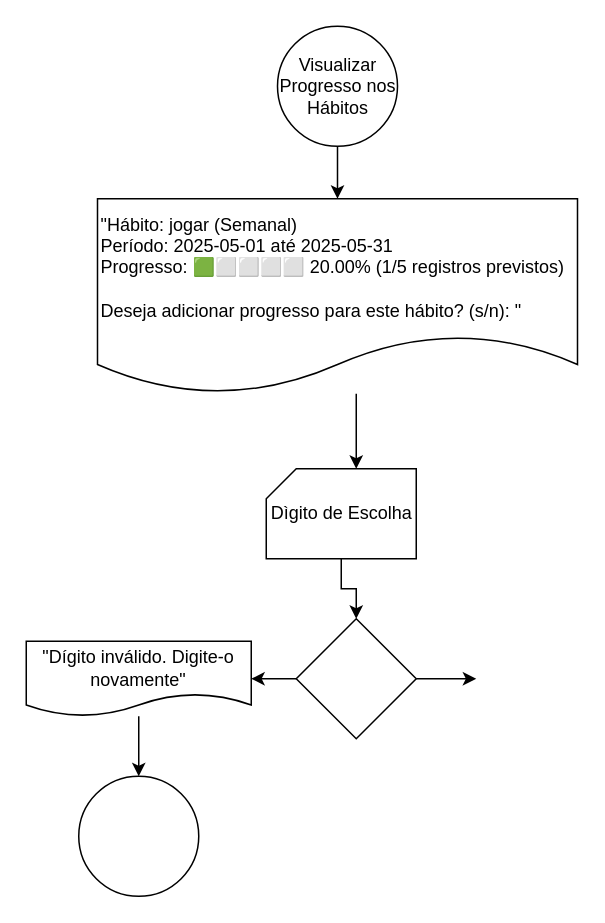
The diagram is 605 pixels wide and 923 high, and some of its shapes have lost their labels. Here are the shapes that lost their labels. From the top down, the centre of each, then its label:
At [355,678]: "Dígito de escolha é igual a 1?".
At [138,835]: "Menu Hábitos".
